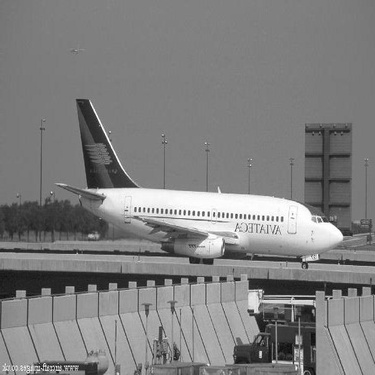airplane: (45, 80, 351, 287)
